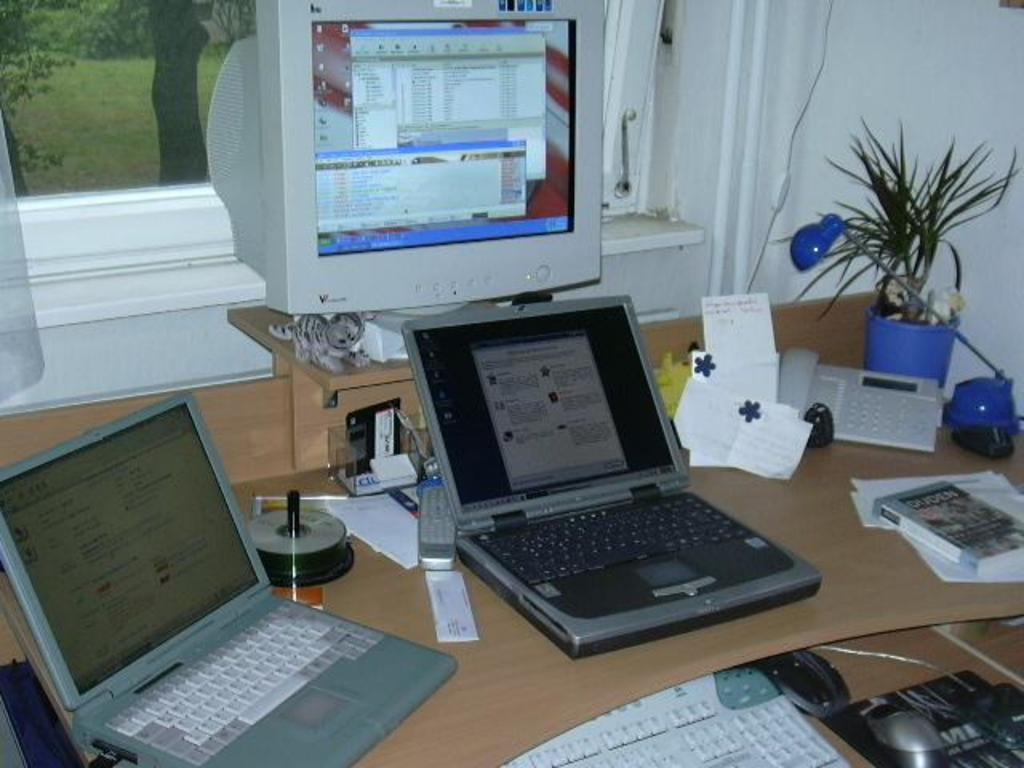Computer-keyboard: (101, 602, 386, 766), (501, 666, 848, 766), (478, 493, 755, 587)
Computer-monitor: (240, 22, 618, 344)
Laptop: (0, 389, 458, 766), (397, 278, 810, 654)
